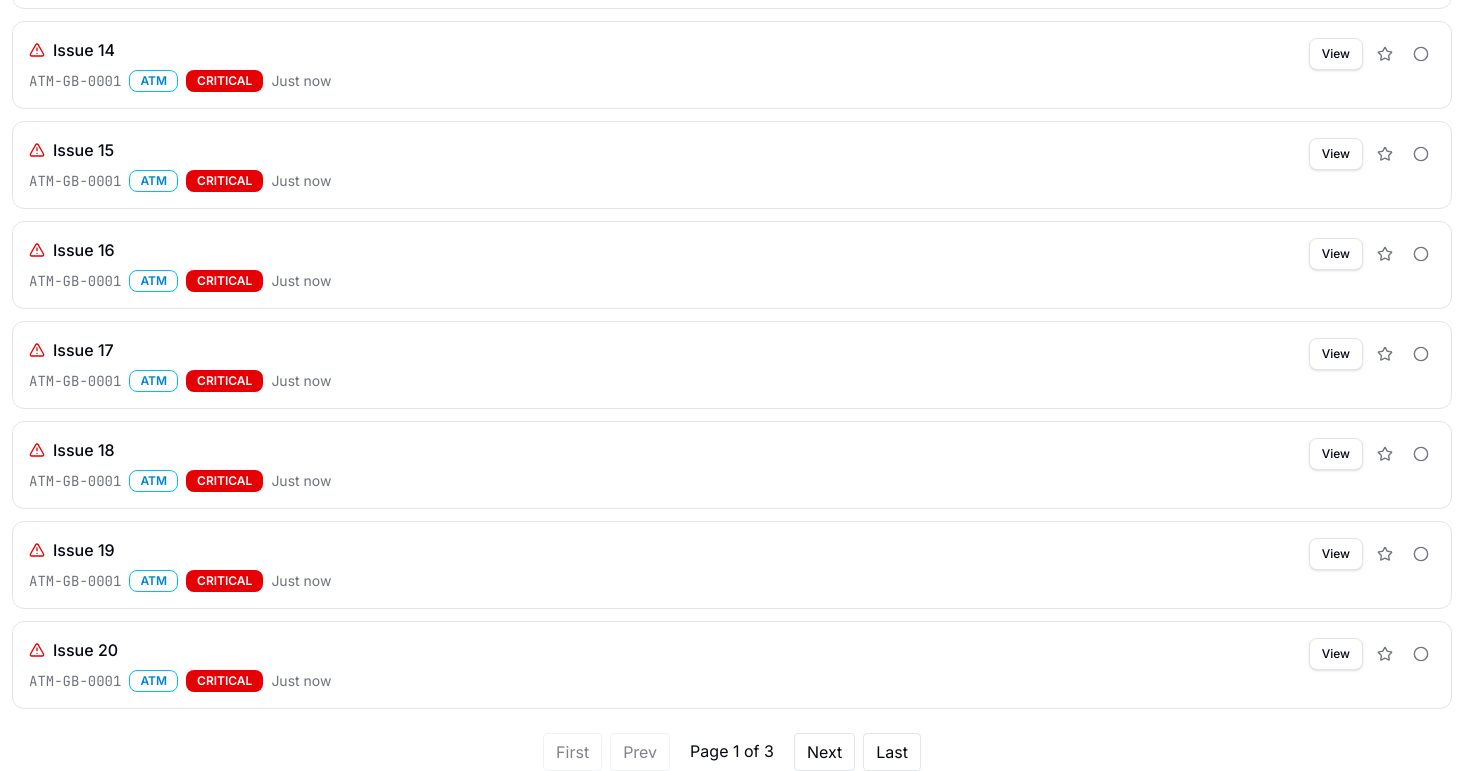
Test: AnomalyListPage page reset on filter change (#17) › resets to page 1 when a filter changes while on page N>1
(page scrolled)
# Move to page 3 of 3.
Click the button "Next" at (825, 752), box [794,733,855,770]
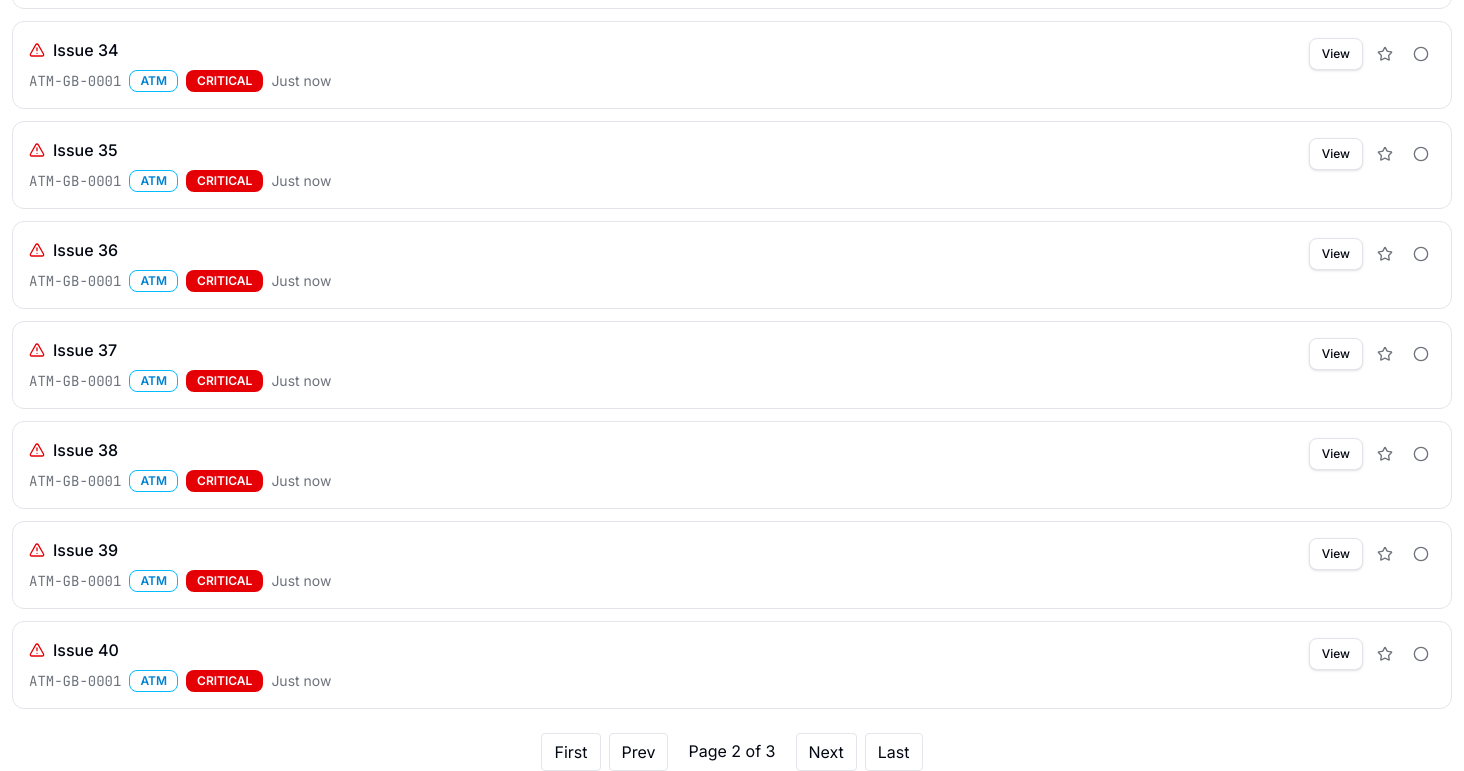
Click the button "Next" at (826, 752), box [796,733,857,770]
(page scrolled)
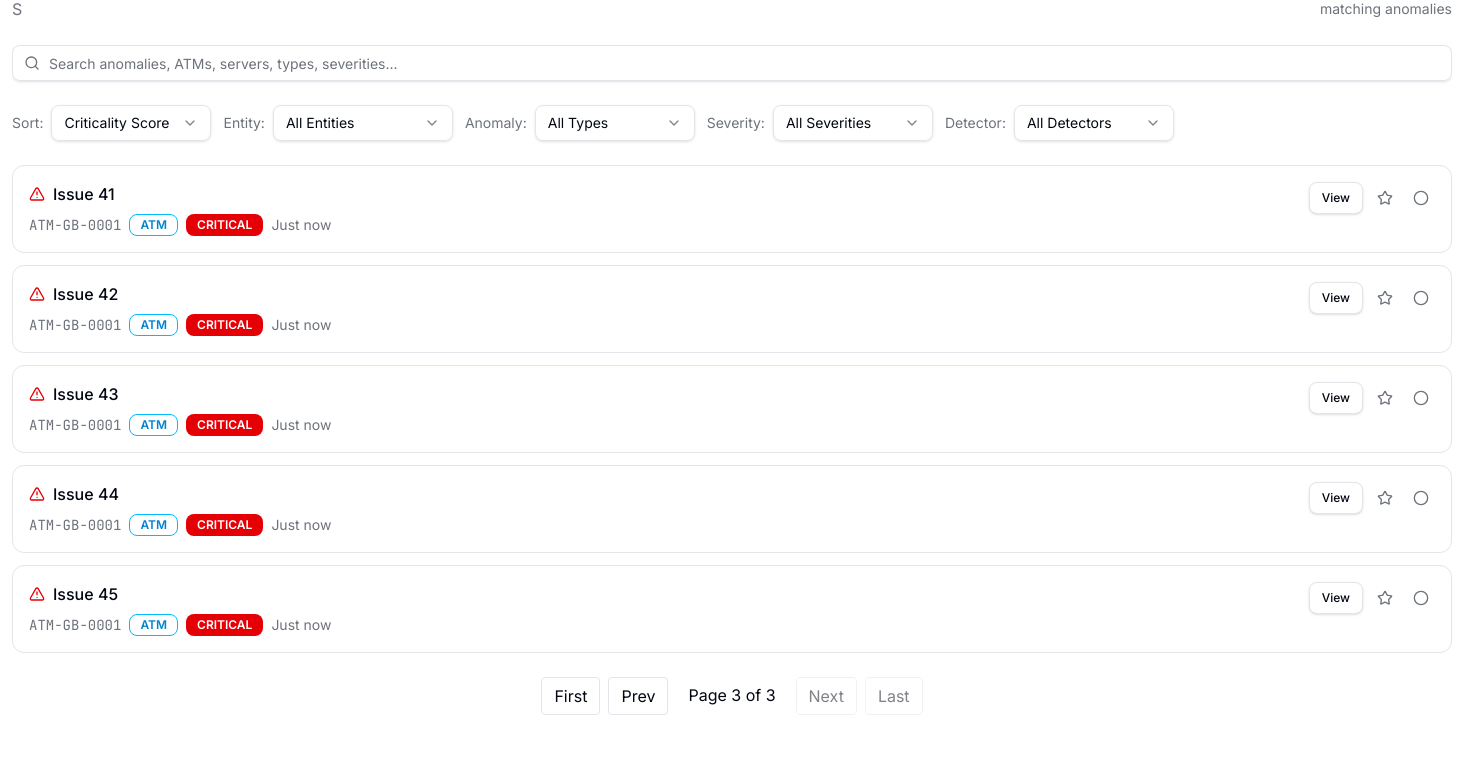
expect the text "Page 3 of 3" is shown: met, box [688,685,776,705]
expect the heading "Issue 41" is shown: met, box [53,182,115,206]
Click the dropdown labelled "All Severities" at (853, 123), box [773,105,933,141]
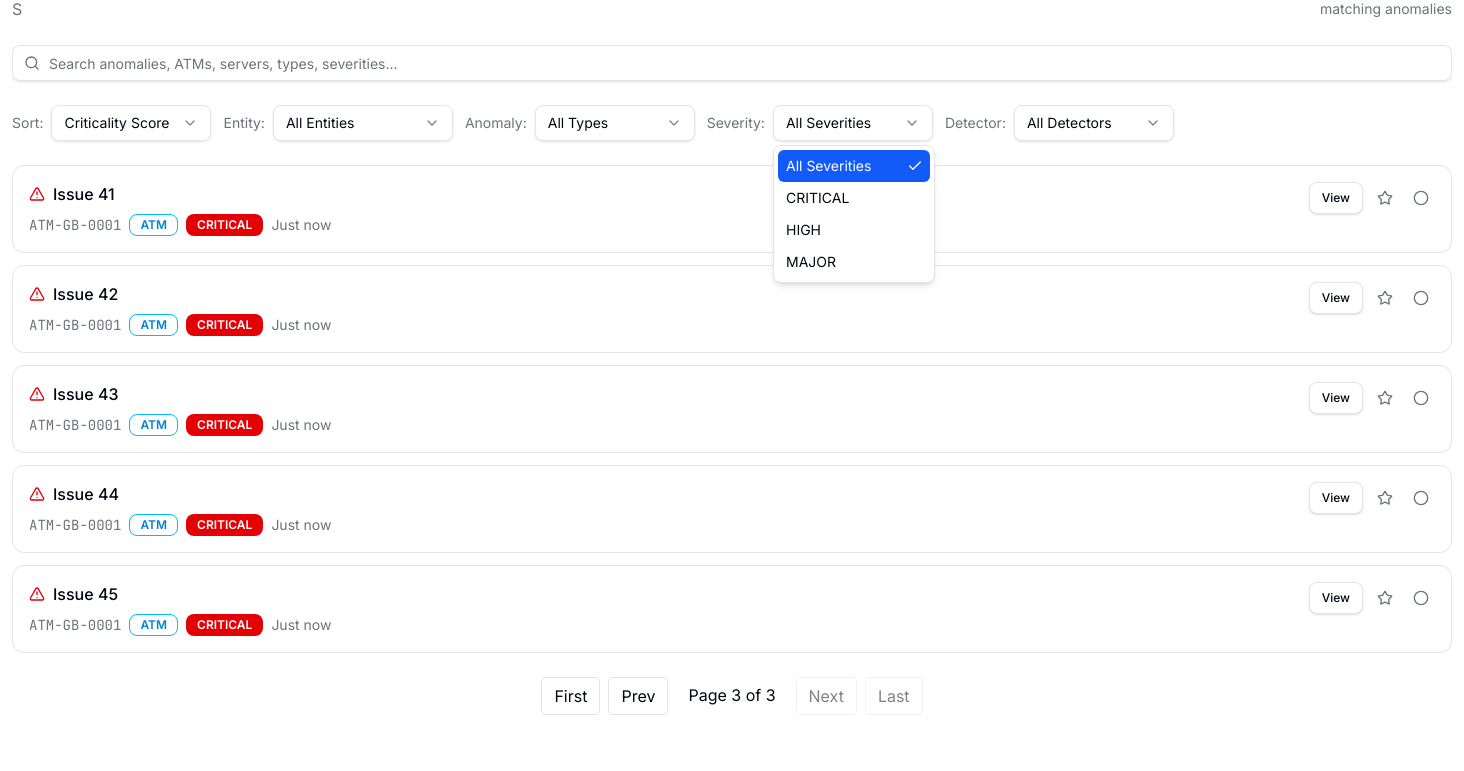
Click the option "CRITICAL" at (818, 198), box [786,189,849,206]
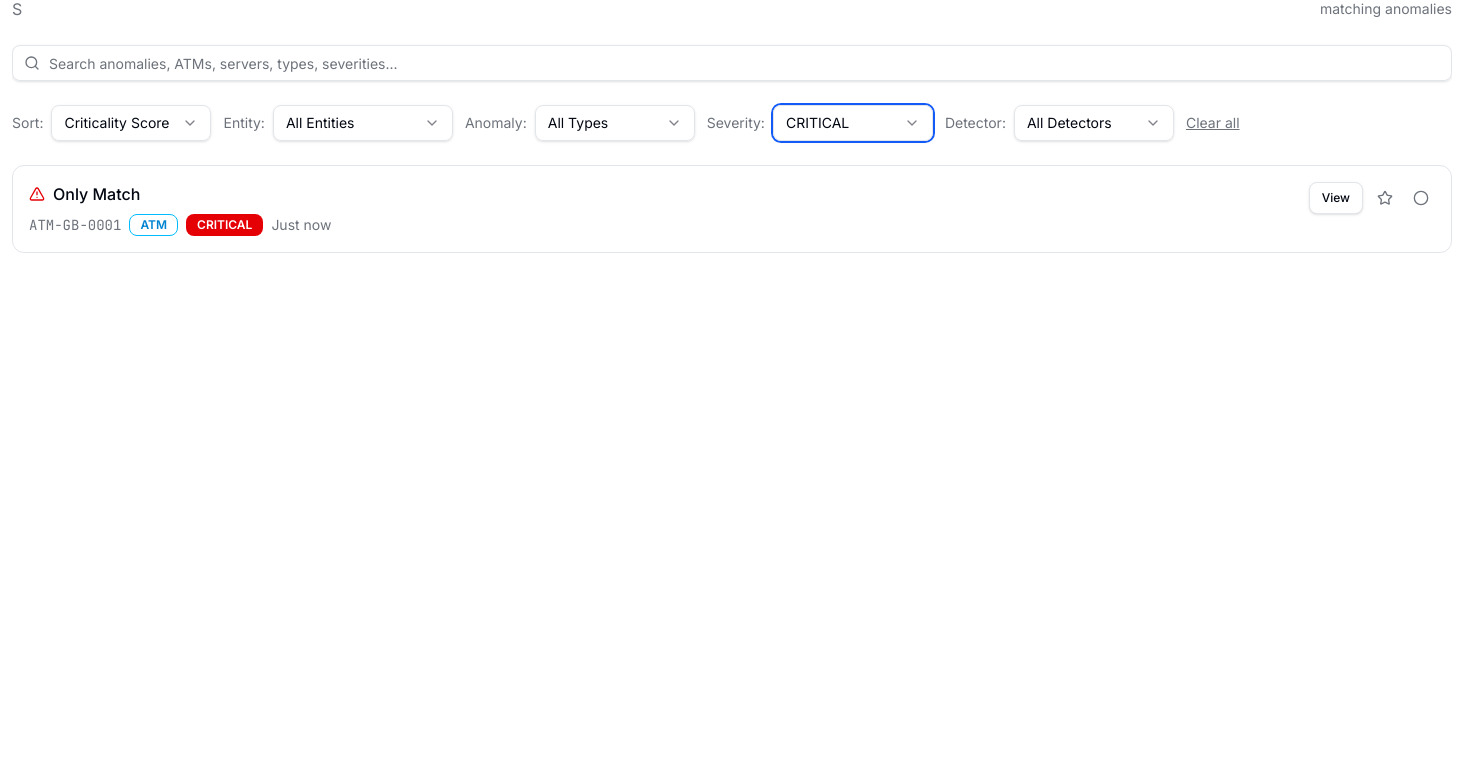
expect the heading "Only Match" is shown: met, box [53,182,140,206]
expect the text "Page 3 of 3" is gone: met
